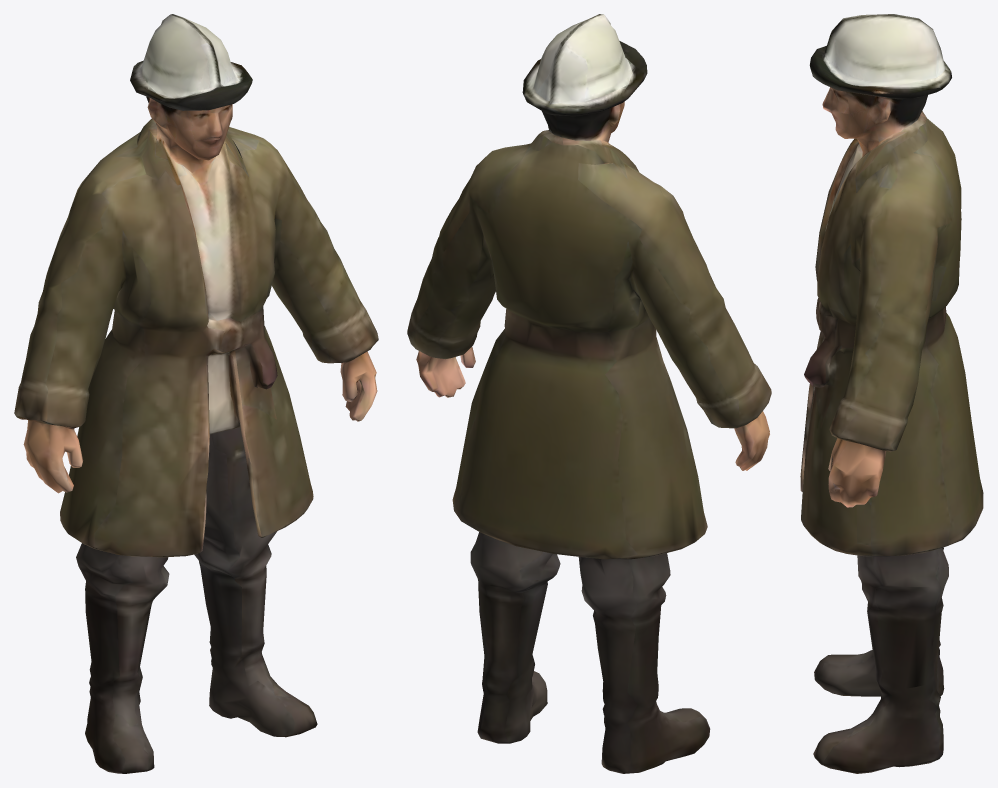
Rendered from herder-erlan.gen.phone.glb.
The picture shows the model from 3 angles, left to right: view 1: azimuth 30°, elevation 25°; view 2: azimuth 150°, elevation 25°; view 3: azimuth 270°, elevation 25°; orthographic projection.
Parts seen in each view (by area): view 1: herder-erlan.raw; view 2: herder-erlan.raw; view 3: herder-erlan.raw.
Part boxes in pixels (x1,y1,x2,y2): herder-erlan.raw: [14, 14, 378, 773]; herder-erlan.raw: [407, 14, 771, 773]; herder-erlan.raw: [800, 14, 983, 773].
Bounding box in the file's own units: 0.9566 × 1.85 × 0.4318.
Materials: 1 (1 with a texture image).
